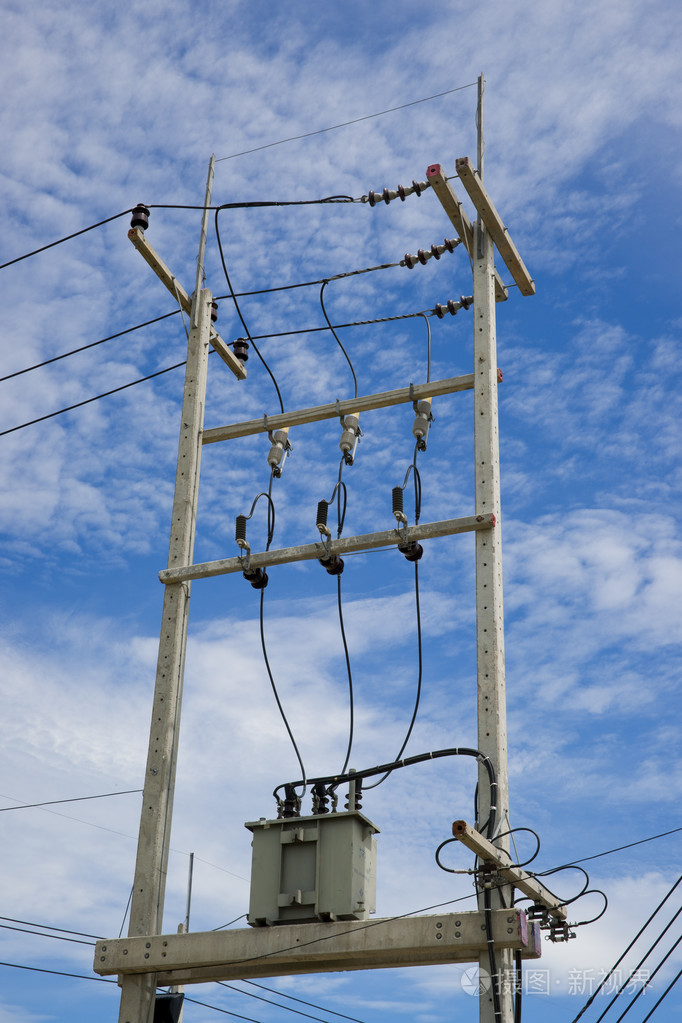insulator: (400, 237, 453, 273), (361, 181, 423, 206), (434, 296, 473, 320)
